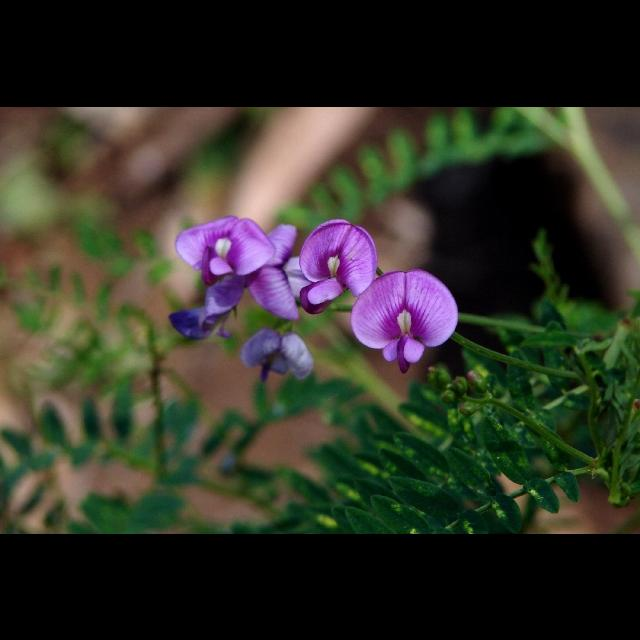Flower: (164, 217, 458, 385)
